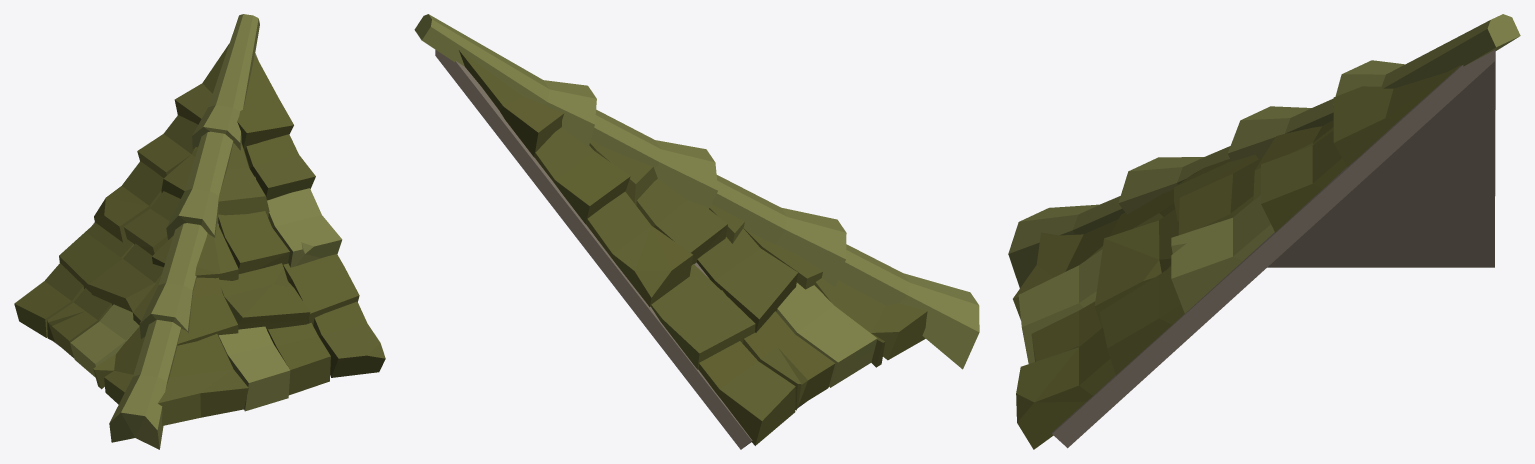
The model's file is _ROOF_CORNER_OUT_1.fbx.
3 renders of one model, left to right at view 1: azimuth 30°, elevation 25°; view 2: azimuth 150°, elevation 25°; view 3: azimuth 270°, elevation 25°, orthographic. The views are drawn at different scales.
Visible parts, largest first — view 1: ROOF_CORNER_OUT_1; view 2: ROOF_CORNER_OUT_1; view 3: ROOF_CORNER_OUT_1.
Part boxes in pixels (x1,y1,x2,y2): ROOF_CORNER_OUT_1: (14, 14, 385, 449); ROOF_CORNER_OUT_1: (414, 14, 979, 449); ROOF_CORNER_OUT_1: (1008, 14, 1520, 449).
Bounding box in the file's own units: 127 × 123 × 120.
